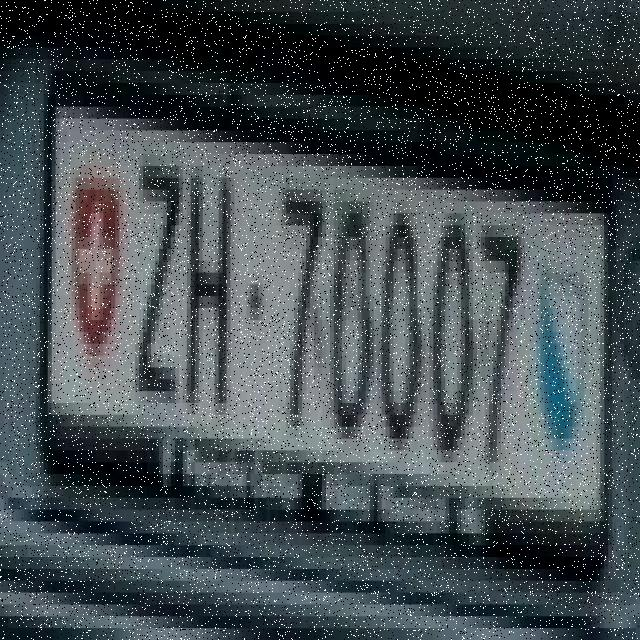licenseplate: (37, 41, 613, 592)
